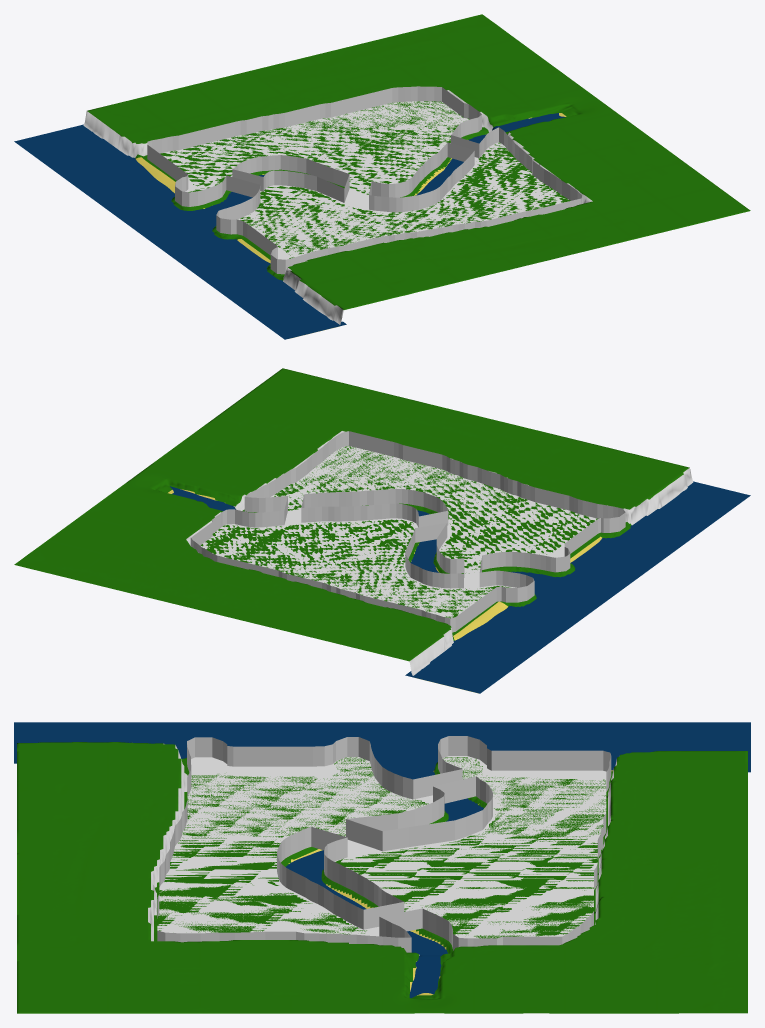
File: Terrain.fbx
The picture shows the model from 3 angles, top to bottom: view 1: azimuth 30°, elevation 25°; view 2: azimuth 150°, elevation 25°; view 3: azimuth 270°, elevation 25°; orthographic projection. The views are drawn at different scales.
Parts seen in each view (by area): view 1: Landscape, _Col, MainWater; view 2: Landscape, _Col, MainWater; view 3: Landscape, _Col, MainWater, RiverTop.
Part boxes in pixels (x1=…): Landscape: x1=83, y1=14, x2=750, y2=338; _Col: x1=147, y1=86, x2=581, y2=274; MainWater: x1=14, y1=124, x2=486, y2=339; Landscape: x1=14, y1=368, x2=693, y2=693; _Col: x1=190, y1=431, x2=625, y2=632; MainWater: x1=405, y1=481, x2=750, y2=693; Landscape: x1=17, y1=742, x2=747, y2=1013; _Col: x1=157, y1=736, x2=611, y2=952; MainWater: x1=14, y1=722, x2=750, y2=955; RiverTop: x1=409, y1=956, x2=441, y2=998.
Bounding box in the file's own units: 9960 × 390 × 10000.
